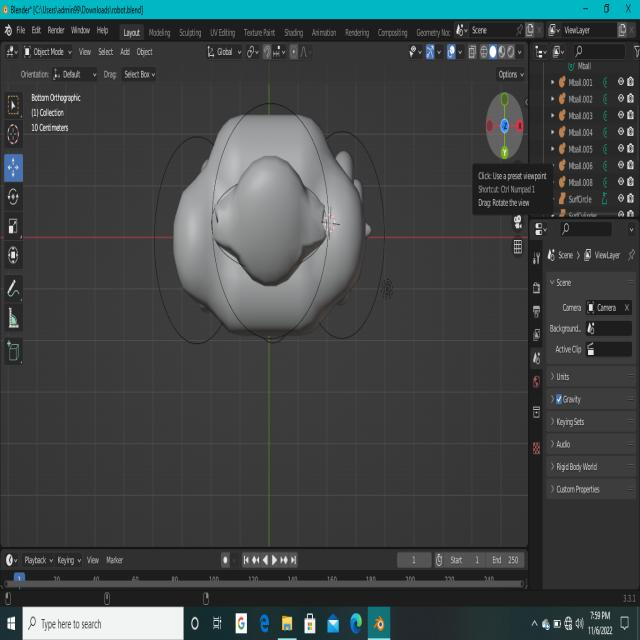man: (162, 98, 394, 345)
